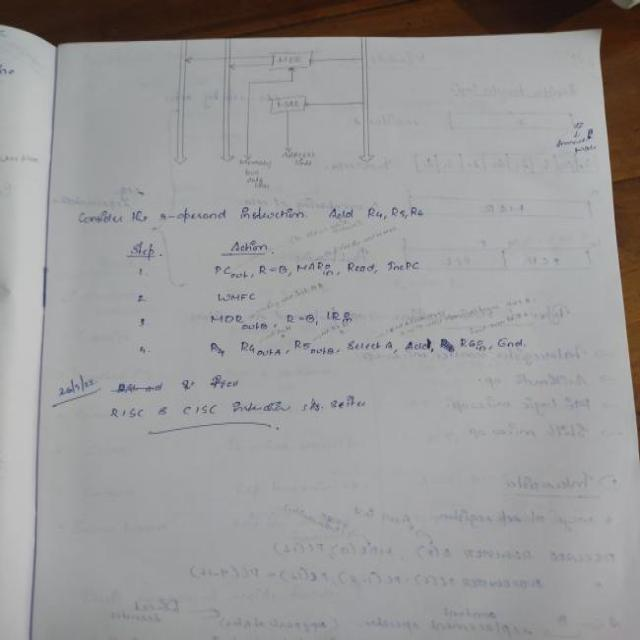Figure Detection - v3 Dataset Version2: (147, 34, 410, 200)
